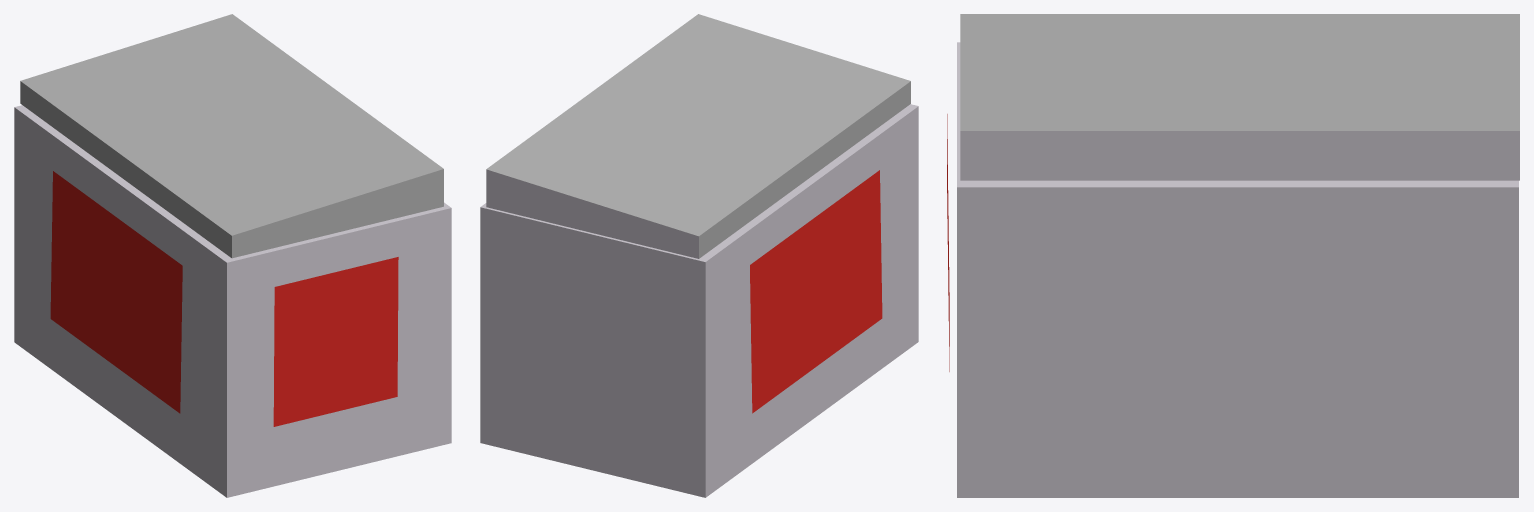
File: gefriertrue.glb
3 views of the same model, side by side, from view 1: azimuth 30°, elevation 25°; view 2: azimuth 150°, elevation 25°; view 3: azimuth 270°, elevation 25° (orthographic). The views are drawn at different scales.
Visible parts, largest first — view 1: Eistruhe; view 2: Eistruhe; view 3: Eistruhe.
Part boxes in pixels (left/top/right/bottom): Eistruhe: left=14, top=14, right=451, bottom=497; Eistruhe: left=480, top=14, right=918, bottom=497; Eistruhe: left=947, top=14, right=1519, bottom=497.
Size of the model in its own units: 2.05 by 2.34 by 3.34.
